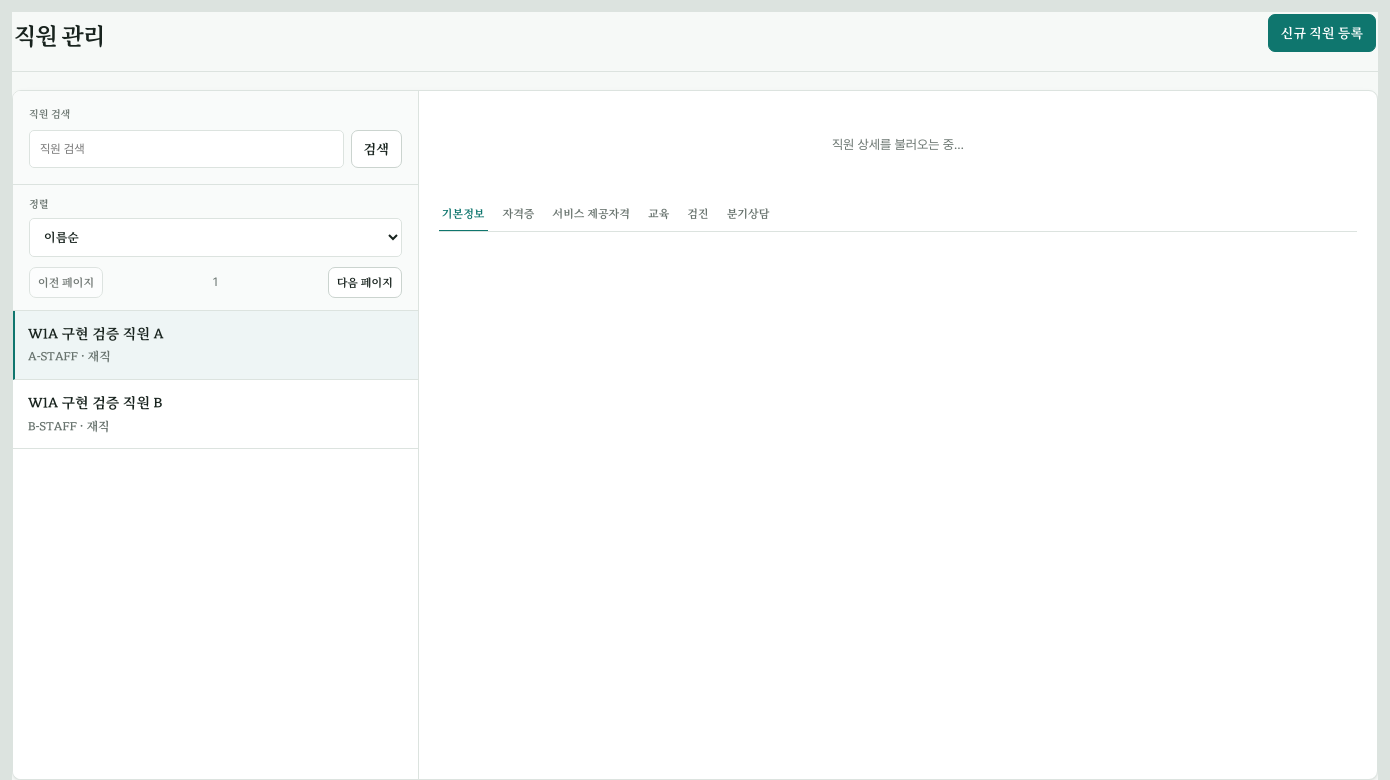
Test case: W1A-VS3 staff training implementation behavior › keeps unresolved catalog loading with zero synthetic rows
Click the text "W1A 구현 검증 직원 A".
click(96, 333)  # box [28,324,164,343]
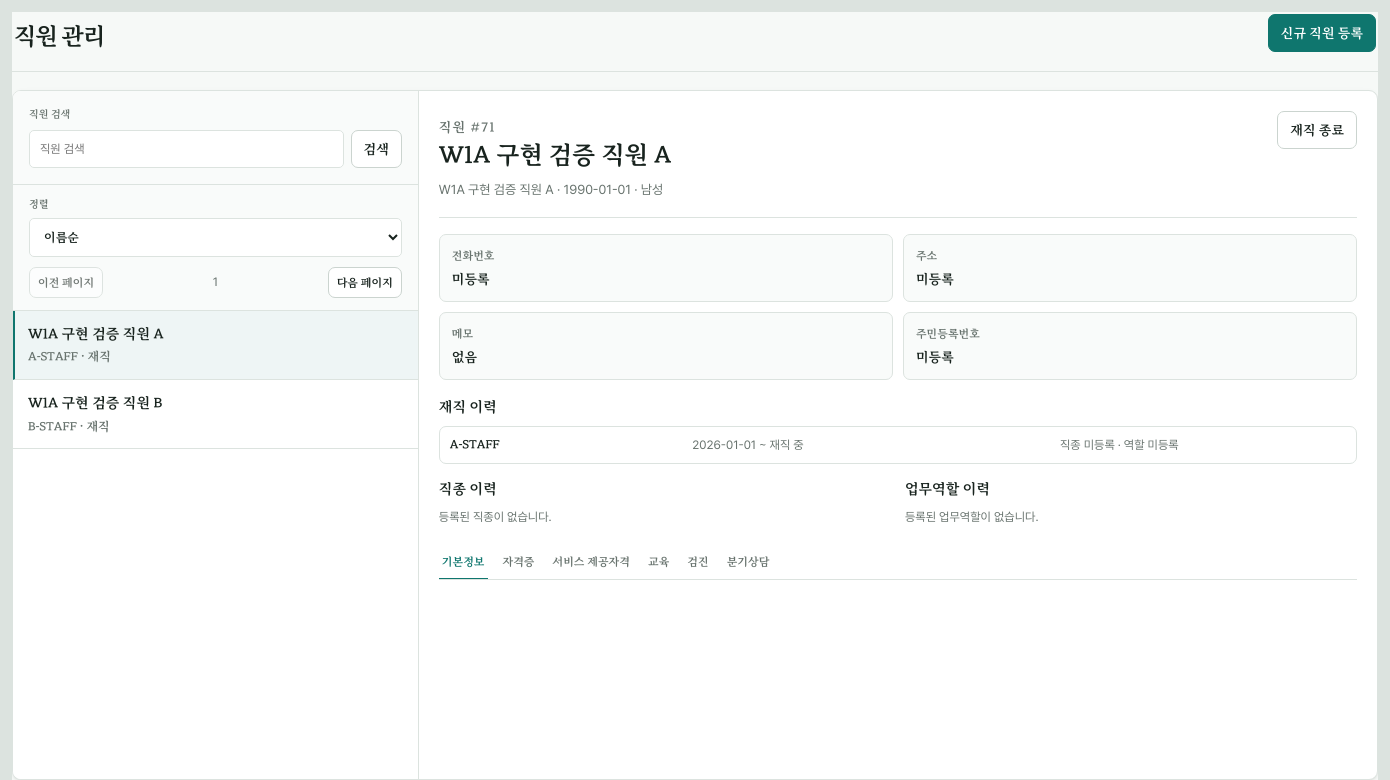
Check: the heading "W1A 구현 검증 직원 A" is shown, box [439,137,671,174]
Click the tab "교육".
click(659, 562)  # box [645,544,672,578]
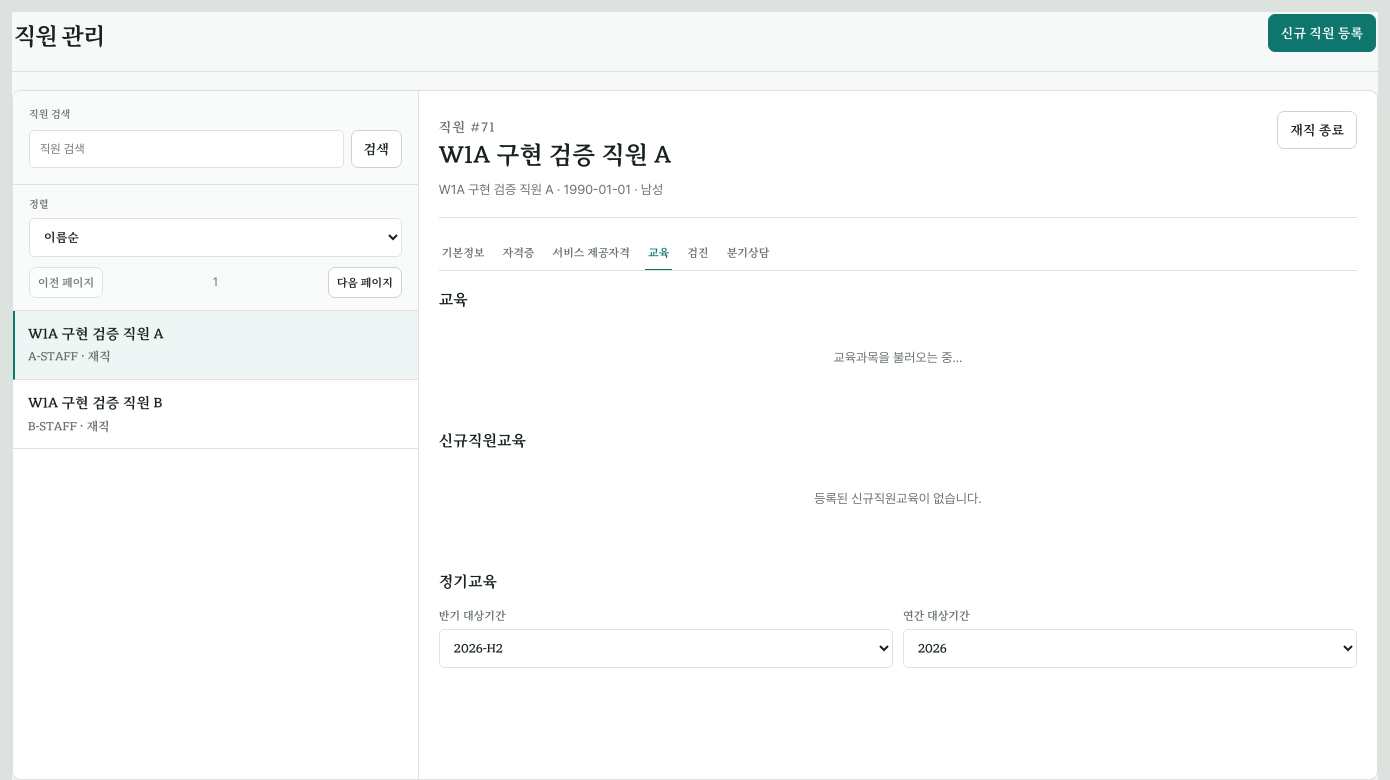
Check: the text "교육과목을 불러오는 중…" is shown, box [834,350,962,365]
